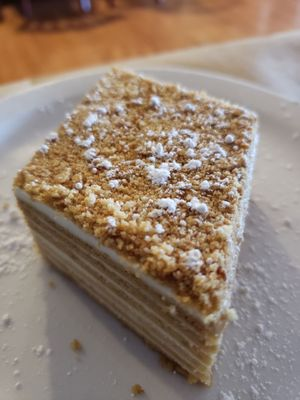curry: (1, 0, 300, 346)
sushi: (12, 72, 257, 393)
